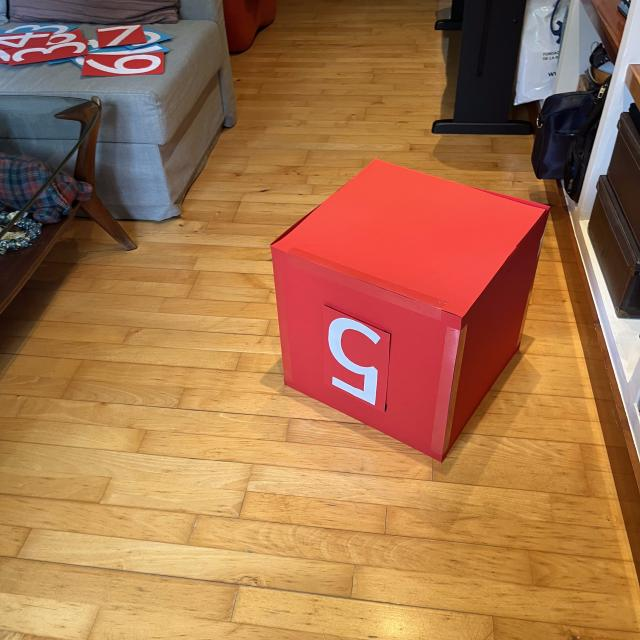box: (264, 153, 554, 465)
